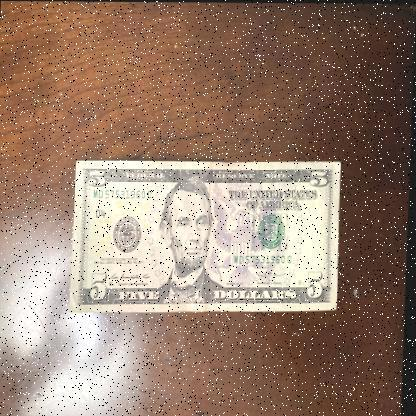five-front: (70, 158, 342, 312)
